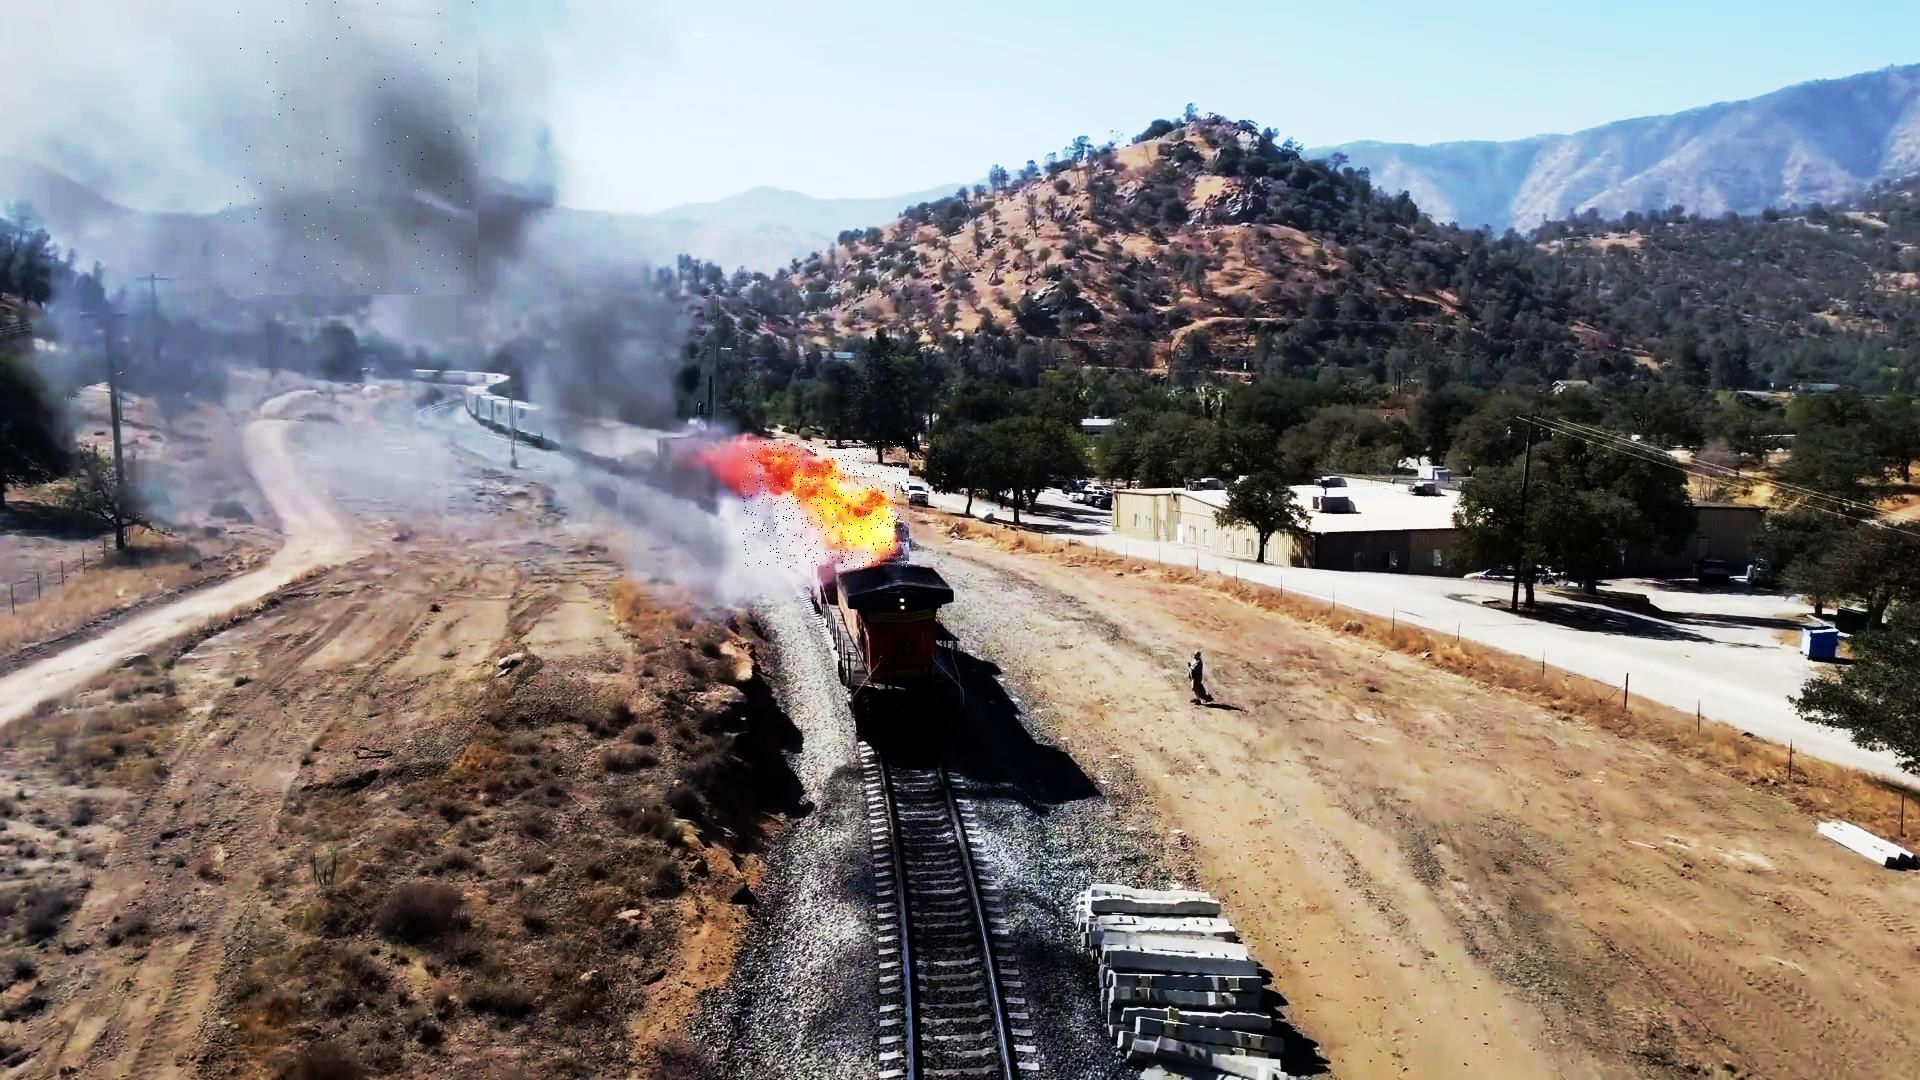fire: (742, 440, 909, 568)
smoke: (223, 0, 477, 295)
